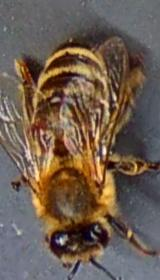varroa_mite: (20, 111, 53, 144)
